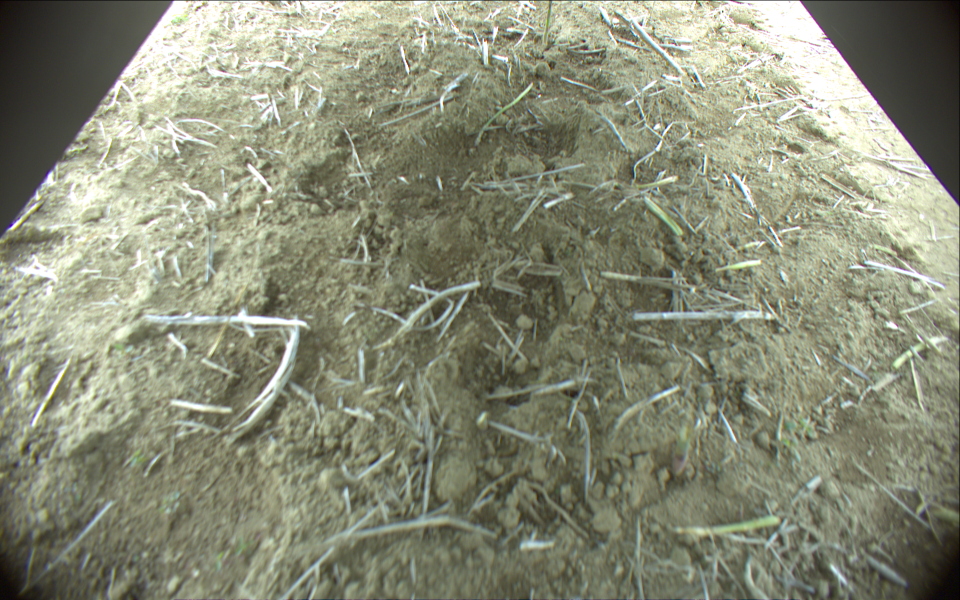aspa: (469, 80, 534, 148), (673, 518, 779, 542), (542, 1, 554, 47)
